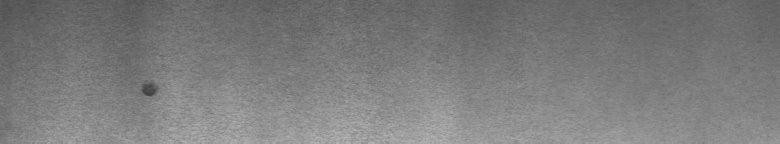fi: (142, 84, 160, 100)
